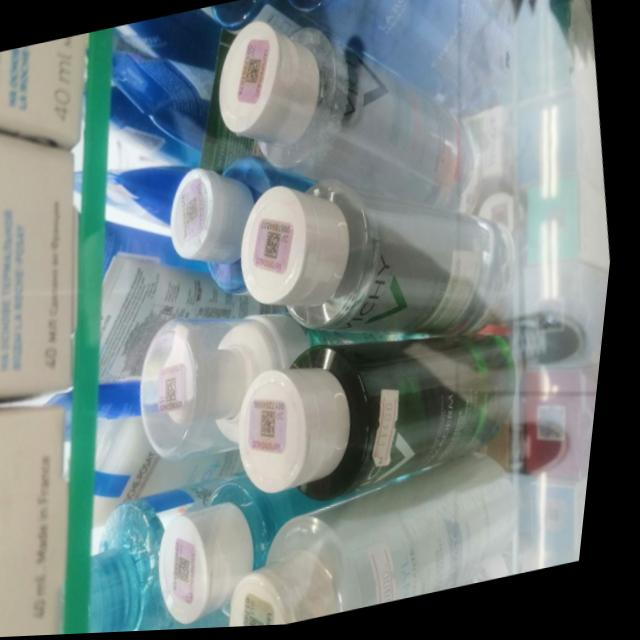datamatrix: (240, 57, 270, 89), (264, 231, 292, 265), (265, 409, 291, 443), (186, 556, 208, 587), (186, 197, 208, 226), (170, 377, 190, 406)
